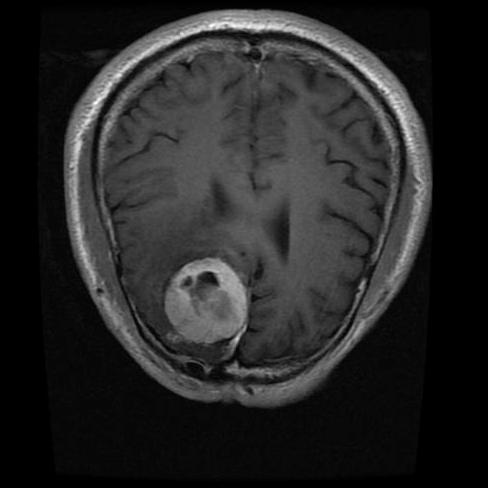Tumour-Meningioma: (148, 247, 261, 353)
